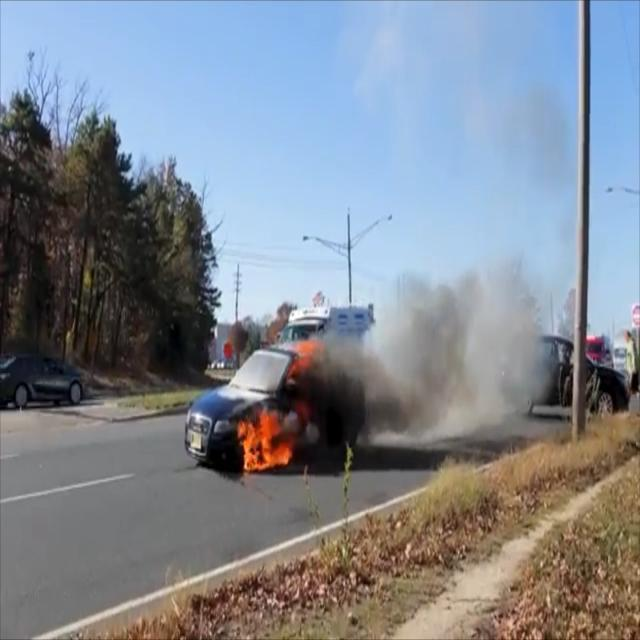fire: (238, 336, 318, 476)
